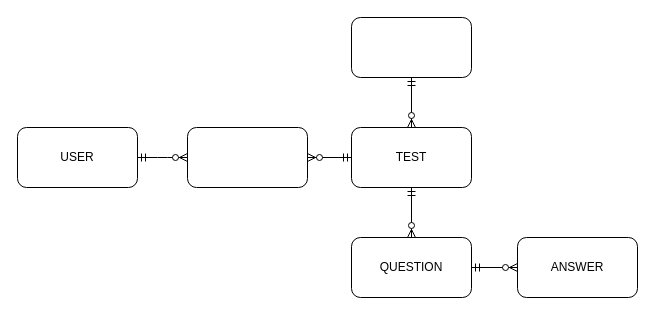
Some shapes in this 655 by 315 pixel diagram are drawn without their labels. The shapes that lost their labels are listed below. From the top down, each one's centre as x and y in pixels, then its label:
the point at 411,47: CATEGORY
the point at 247,157: USERS_TEST
